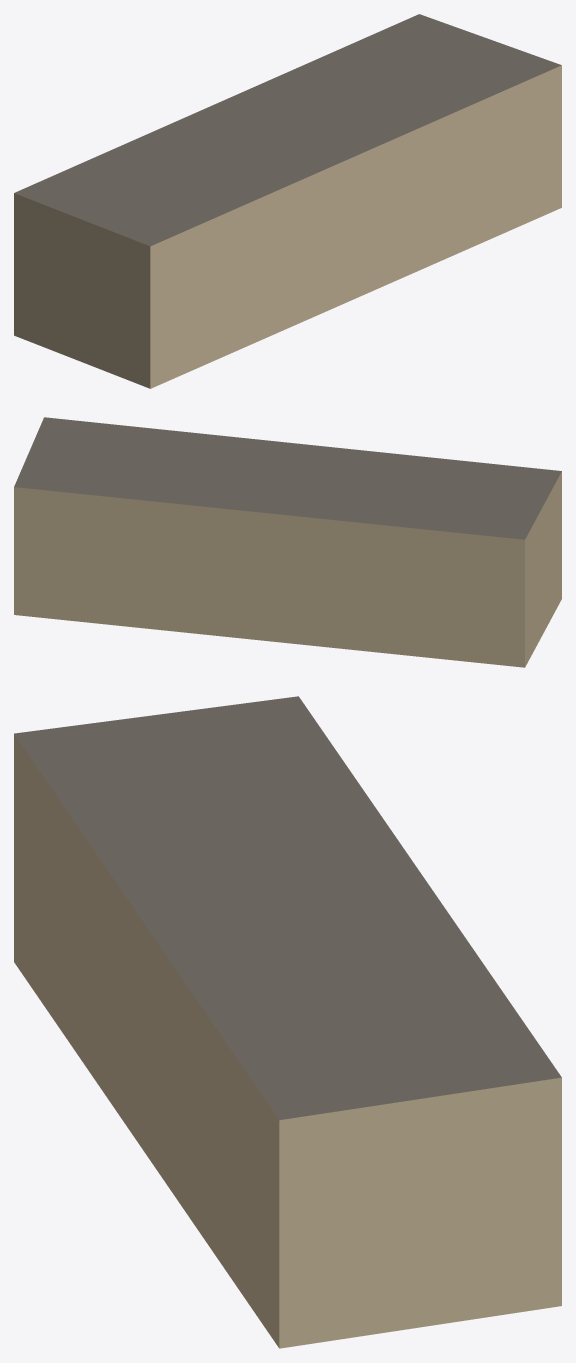
The picture shows the model from 3 angles, top to bottom: view 1: azimuth 30°, elevation 25°; view 2: azimuth 150°, elevation 25°; view 3: azimuth 270°, elevation 25°; orthographic projection. The views are drawn at different scales.
Visible parts, largest first — view 1: HP-w1153639392; view 2: HP-w1153639392; view 3: HP-w1153639392.
Boxes of the visible parts, x1,y1,x2,y2 form: HP-w1153639392: (14,14,561,388); HP-w1153639392: (14,417,561,667); HP-w1153639392: (14,696,561,1348).
Bounding box in the file's own units: 78.79 × 19.8 × 43.04.
